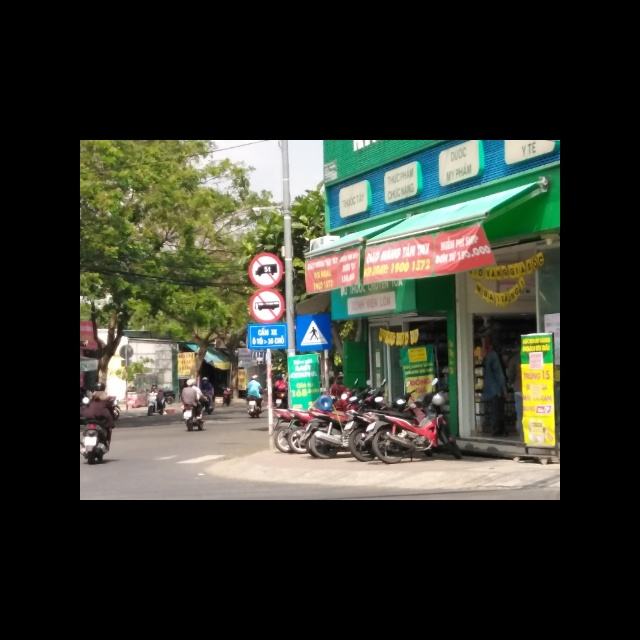Cấm xe tải: (247, 253, 284, 289)
Cấm xe xe khách: (250, 288, 287, 325)
Đường dành cho người đi bộ: (296, 315, 332, 351)
